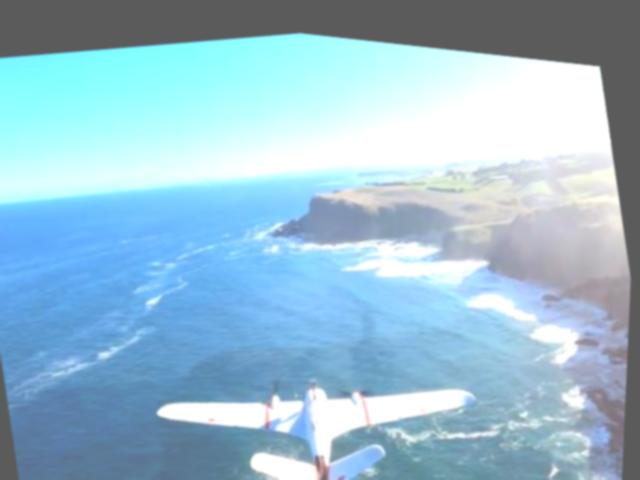uav: (150, 333, 495, 480)
